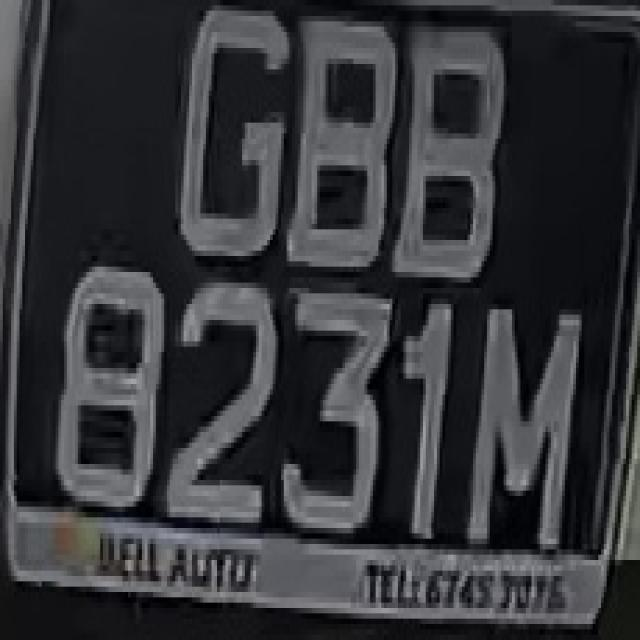1: (392, 272, 470, 549)
2: (170, 261, 275, 539)
3: (281, 267, 398, 549)
8: (53, 229, 164, 512)
B: (392, 21, 504, 288), (295, 5, 398, 283)
G: (172, 11, 295, 250)
M: (459, 293, 587, 571)
